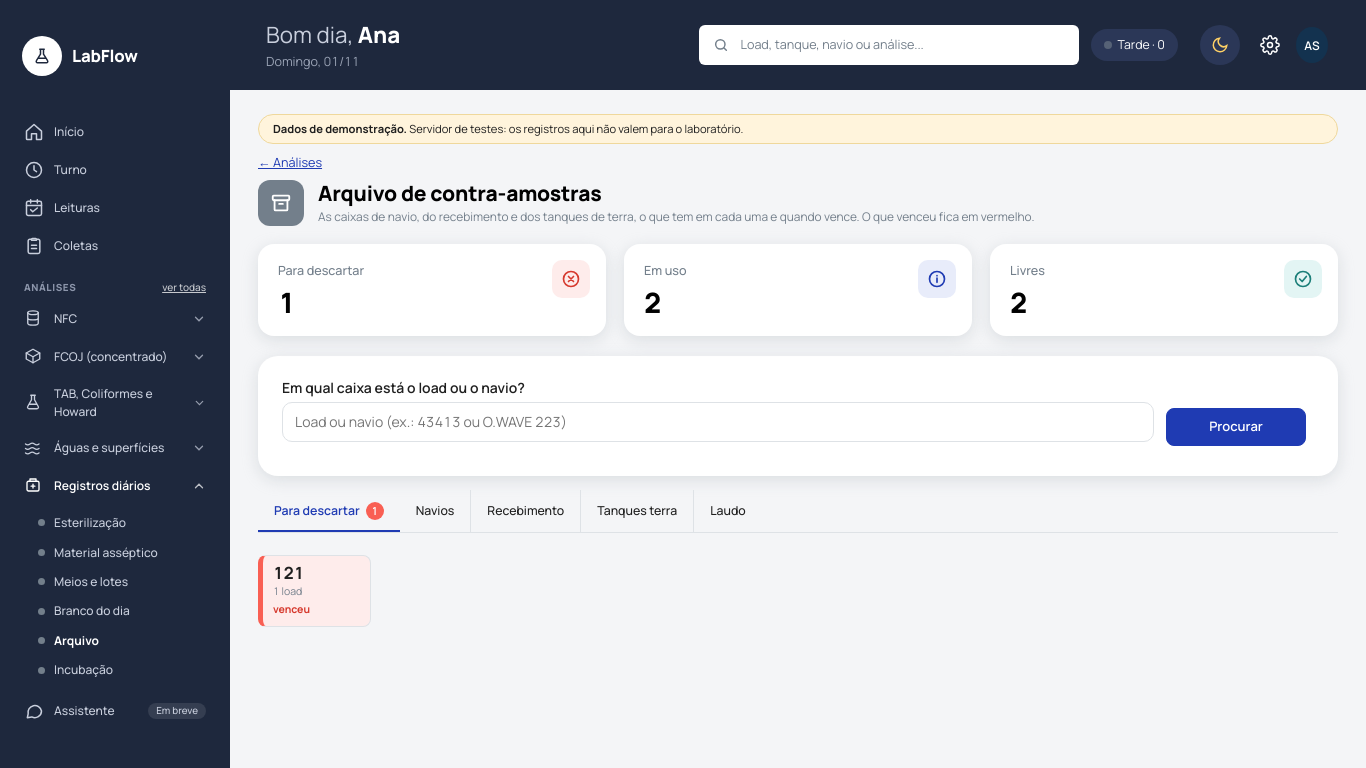
Test: Arquivo de contra-amostras (PB21) › a busca mostra em qual caixa está o load
Type "98801" into the field labelled "Em qual caixa está o load ou o navio?" at point(718, 422), box [282, 402, 1154, 442]
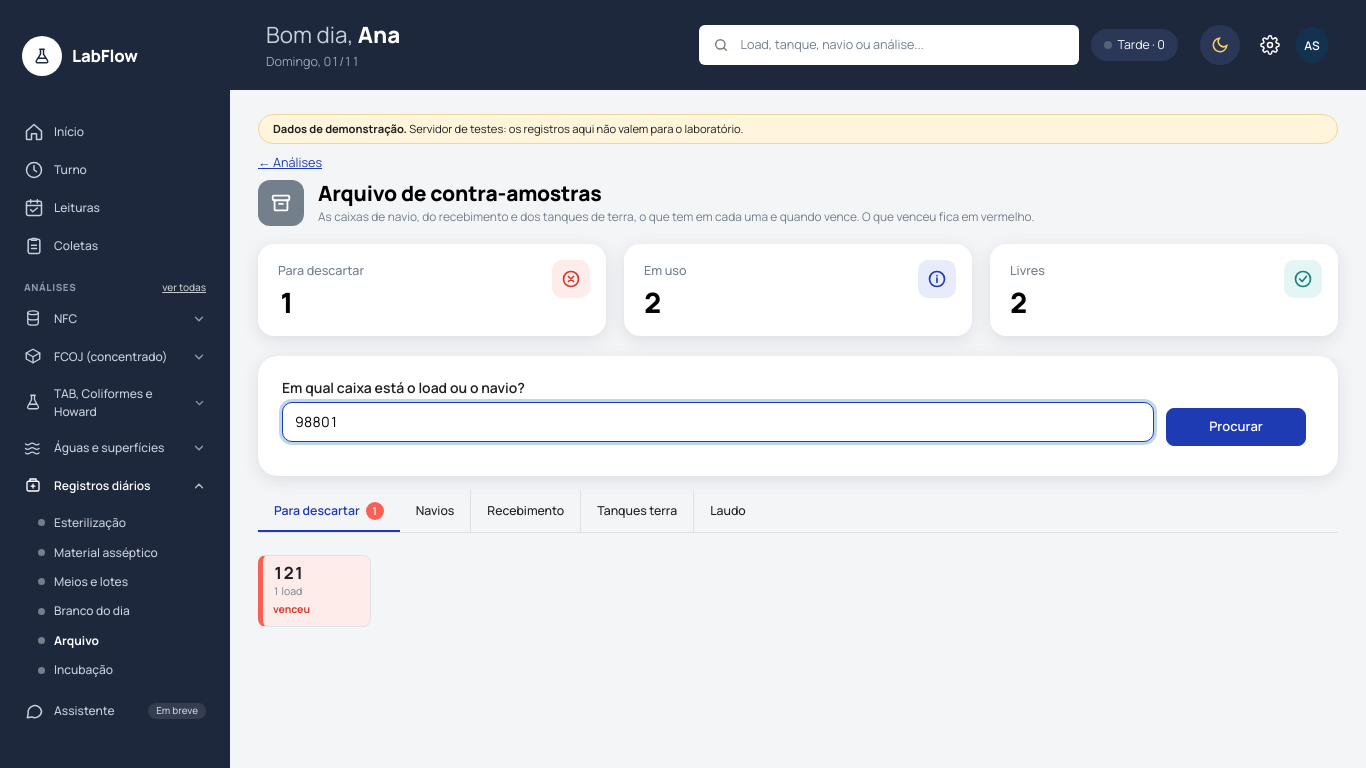
Click the button "Procurar" at point(1236, 427), box [1166, 408, 1306, 446]
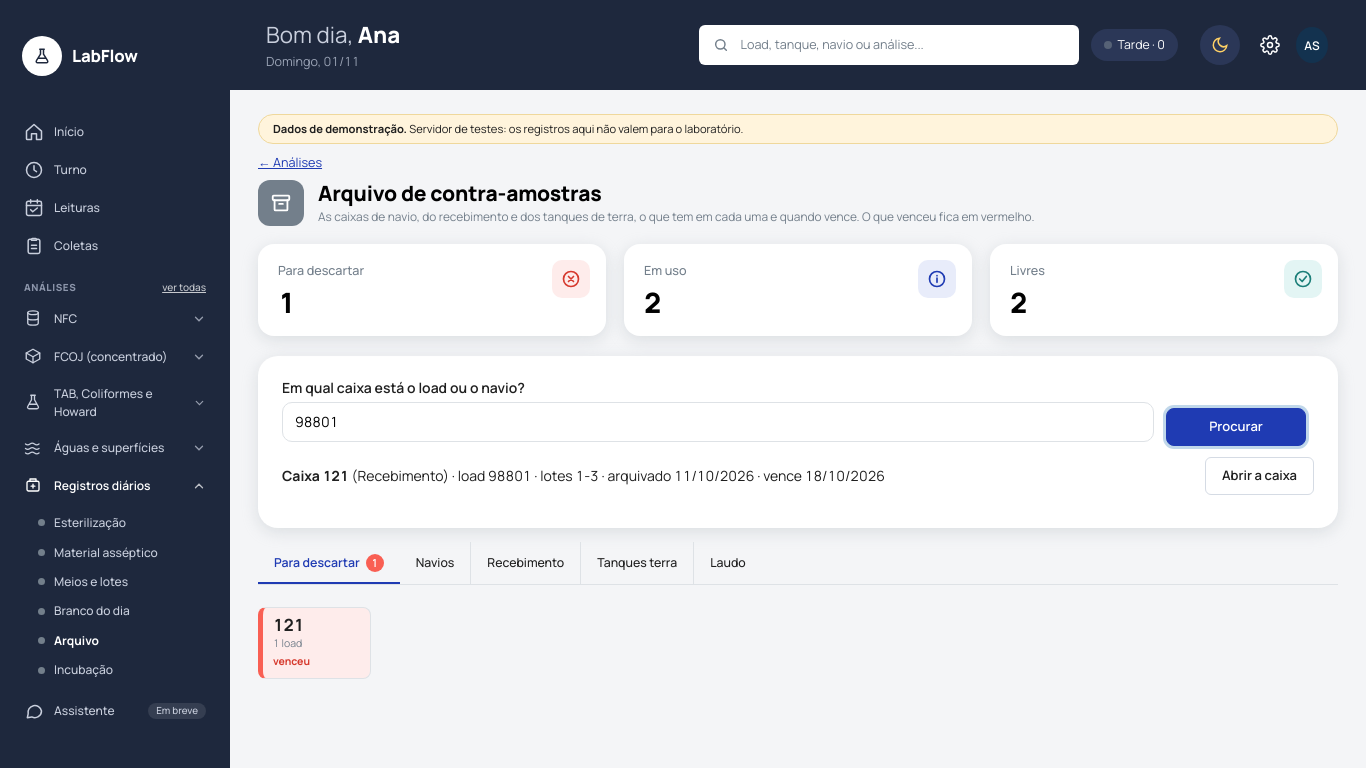
Expected: the list named "Caixas do load" shows "Caixa 121 (Recebimento) · load 98801 · lotes 1-3", [282, 454, 1314, 498]
